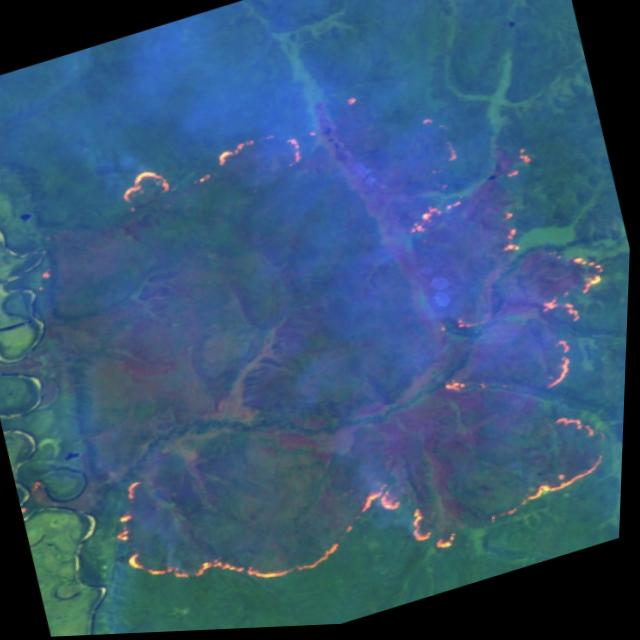fire: (15, 30, 638, 639)
